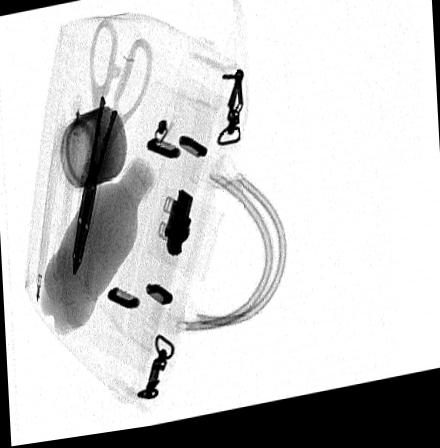Scissors: (70, 17, 153, 282)
